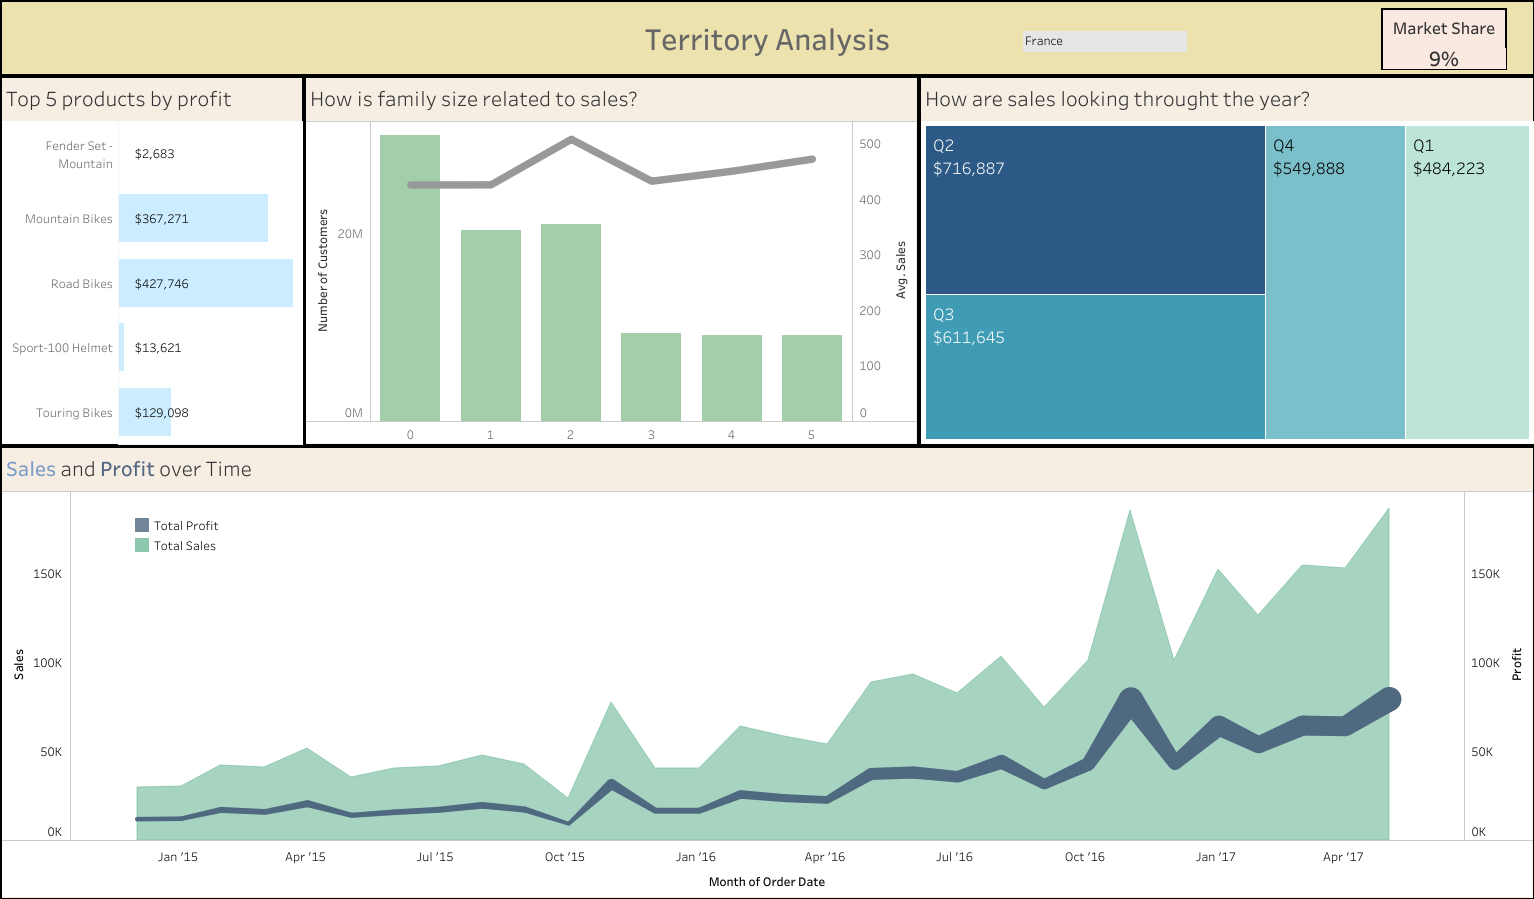

The dashboard page shown, as its layout file describes it:
{"tool":"tableau","page":{"name":"Territory Analysis","canvas":[1000,1000],"units":"permille","ordinal":3},"visuals":[{"type":"text","box":[0,0,1000,84.7]},{"type":"worksheet","title":"Market Share","mark":"Automatic","box":[899.9,8.9,81.9,59.1]},{"type":"filter","title":"How is family size related to sales in each country?","param":"[federated.0p214rr1gn7r401bq3fu206zzvht].[none:Country:nk]","box":[666.5,34.5,107.1,23.6]},{"type":"worksheet","title":"Top 5 products by profit","mark":"Automatic","cols":["Calculation_4477985413521289232"],"box":[0,84.7,198.2,410.8]},{"type":"worksheet","title":"How is family size related to sales in each country?","mark":"Bar","rows":["CustomerKey","Calculation_4477985414567837719"],"cols":["TotalChildren"],"box":[198.2,84.7,400.8,410.8]},{"type":"worksheet","title":"How are sales looking throught the year?","mark":"Automatic","box":[599,84.7,401,410.8]},{"type":"worksheet","title":"Sales and Profit over Time","mark":"Line","rows":["Calculation_4477985414567837719","Calculation_4477985413521289232"],"cols":["OrderDate"],"box":[0,495.4,1000,504.6]},{"type":"legend","title":"Sales and Profit over Time","param":"[federated.0p214rr1gn7r401bq3fu206zzvht].[:Measure Names]","box":[86,571.9,139.8,72.8]}]}

Visuals, with their boxes on the dashboard's canvas, which has no fixed pixel size, in thousandths of its width and height (x1, y1, x2, y2). These are canvas units, not pixel positions in the 1534x899 screenshot, which may show the page scaled, cropped or inside an application window:
text: select_region(0, 0, 1000, 85)
"Market Share" worksheet: select_region(900, 9, 982, 68)
"How is family size related to sales in each country?" filter: select_region(666, 34, 774, 58)
"Top 5 products by profit" worksheet: select_region(0, 85, 198, 496)
"How is family size related to sales in each country?" worksheet (Bar marks): select_region(198, 85, 599, 496)
"How are sales looking throught the year?" worksheet: select_region(599, 85, 1000, 496)
"Sales and Profit over Time" worksheet (Line marks): select_region(0, 495, 1000, 1000)
"Sales and Profit over Time" legend: select_region(86, 572, 226, 645)
